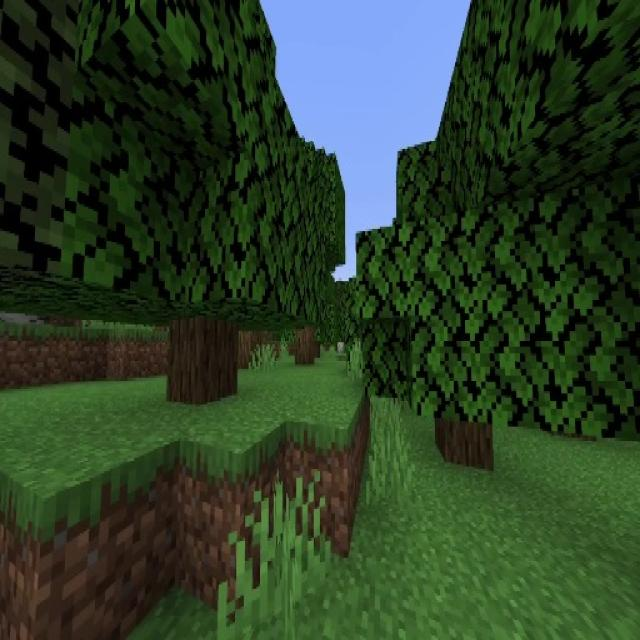oak: (51, 0, 307, 409), (357, 142, 588, 474)
oak_log: (169, 306, 244, 412), (438, 405, 494, 472), (296, 326, 312, 364)
